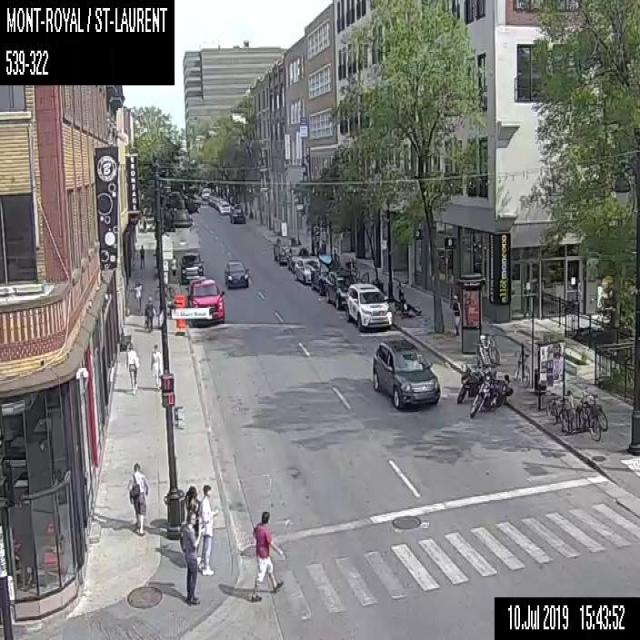construction: (173, 294, 184, 335)
pedestrian: (249, 508, 285, 603), (179, 509, 198, 606), (199, 482, 219, 574), (127, 460, 149, 536), (125, 340, 139, 392), (150, 341, 162, 386), (449, 293, 461, 336), (144, 294, 156, 332), (186, 482, 198, 510), (134, 279, 141, 309), (138, 243, 144, 268), (141, 217, 146, 232)
vehicle: (370, 338, 442, 409), (346, 280, 392, 332), (469, 369, 513, 416), (188, 279, 223, 325), (325, 270, 353, 308), (309, 254, 332, 294), (456, 365, 480, 402), (222, 260, 248, 288), (180, 253, 203, 284), (294, 257, 320, 284), (272, 234, 295, 264), (287, 247, 308, 273), (230, 207, 247, 224), (217, 200, 230, 214), (201, 186, 211, 200)
